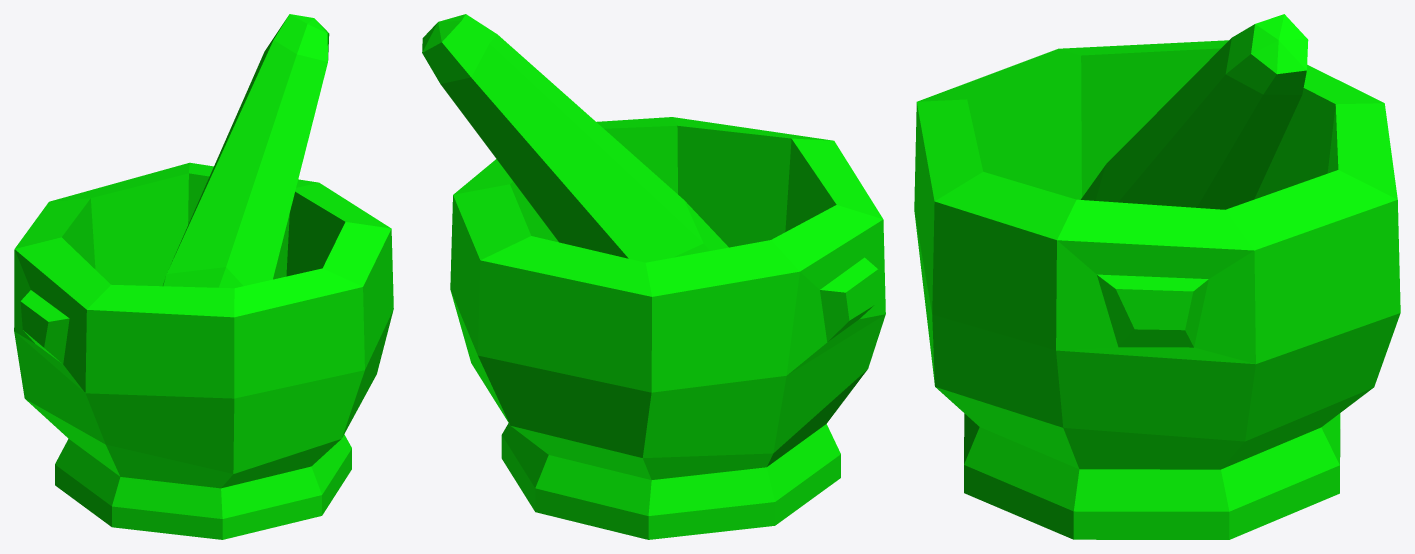
File: SM_Mortar_Stone_Fantasy.fbx
3 renders of one model, left to right at view 1: azimuth 30°, elevation 25°; view 2: azimuth 150°, elevation 25°; view 3: azimuth 270°, elevation 25°, orthographic. The views are drawn at different scales.
Visible parts, largest first — view 1: mortar-stone-fantasy; view 2: mortar-stone-fantasy; view 3: mortar-stone-fantasy.
Part boxes in pixels (x1=…): mortar-stone-fantasy: x1=14, y1=14, x2=393, y2=539; mortar-stone-fantasy: x1=422, y1=14, x2=885, y2=539; mortar-stone-fantasy: x1=914, y1=14, x2=1400, y2=539.
Size of the model in its own units: 0.2012 by 0.2224 by 0.183.
